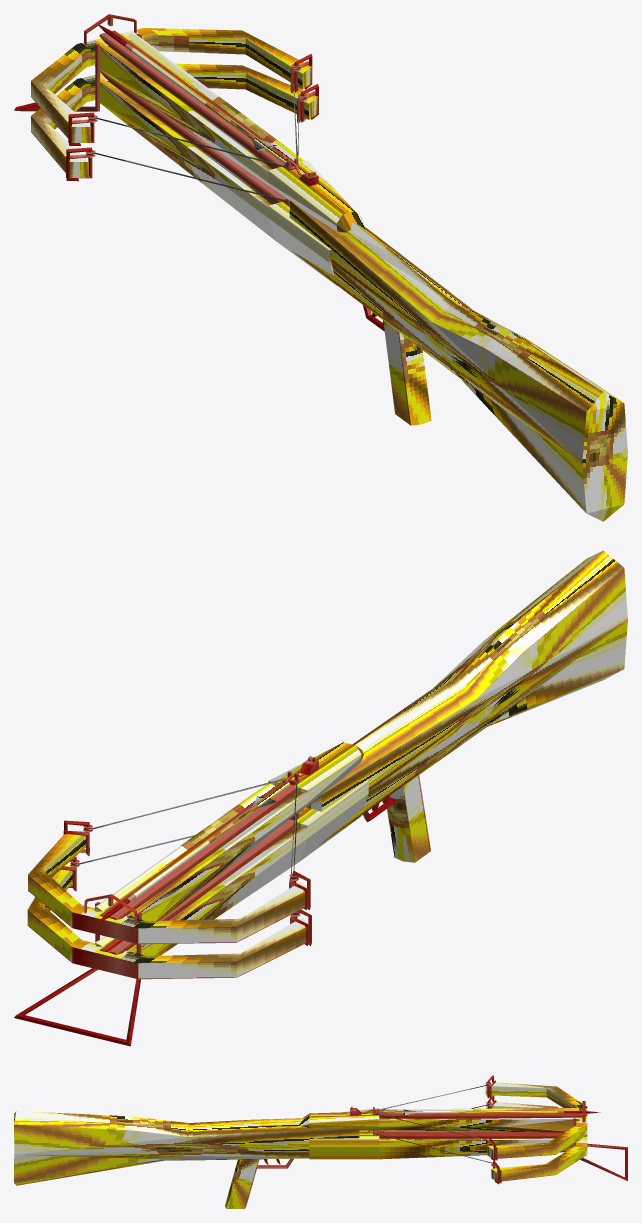
Rendered from double_crossbow_stretching_lower_5.obj.
3 renders of one model, top to bottom at view 1: azimuth 30°, elevation 25°; view 2: azimuth 150°, elevation 25°; view 3: azimuth 270°, elevation 25°, orthographic. The views are drawn at different scales.
Visible parts, largest first — view 1: Torus.009_Torus.008, Torus.000, Torus.001_Torus.007, Torus.002_Torus.009; view 2: Torus.009_Torus.008, Torus.000, Torus.001_Torus.007, Torus.002_Torus.009; view 3: Torus.009_Torus.008, Torus.000, Torus.001_Torus.007, Torus.002_Torus.009.
Boxes of the visible parts, <box> form: Torus.009_Torus.008: <box>282,153,627,521</box>; Torus.000: <box>14,14,365,286</box>; Torus.001_Torus.007: <box>31,28,318,201</box>; Torus.002_Torus.009: <box>98,25,287,164</box>; Torus.009_Torus.008: <box>282,550,627,862</box>; Torus.000: <box>14,742,368,1046</box>; Torus.001_Torus.007: <box>27,778,311,979</box>; Torus.002_Torus.009: <box>97,782,289,923</box>; Torus.009_Torus.008: <box>14,1106,385,1208</box>; Torus.000: <box>299,1101,627,1180</box>; Torus.001_Torus.007: <box>375,1075,587,1184</box>; Torus.002_Torus.009: <box>380,1109,600,1115</box>.
Bounding box in the file's own units: 2.15 × 1.45 × 7.77.
